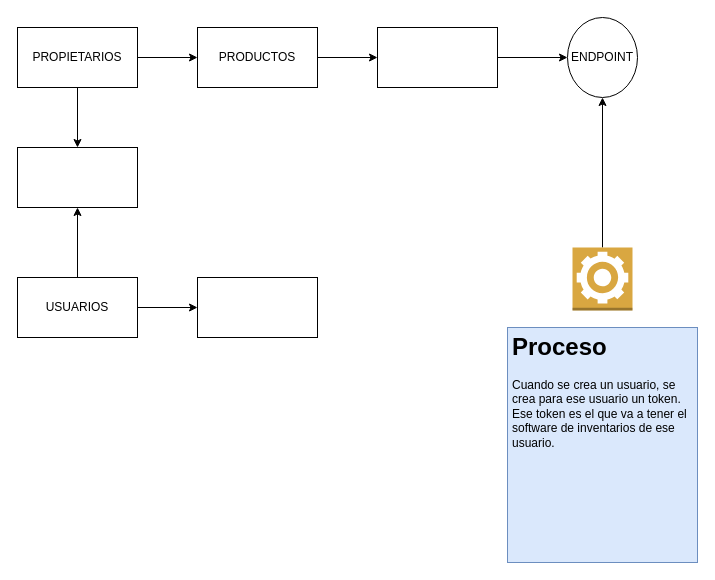
This 715x580 diagram has some shape labels left out. Here are the shapes that lost their labels. From the top down, the centre of each, then its label:
[437,57]: LOG DE CAMBIOS
[77,177]: USUARIO X PROPIETARIO
[257,307]: PERMISOS
